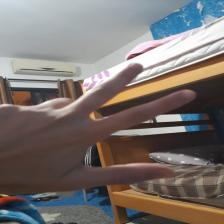three: (8, 62, 197, 193)
